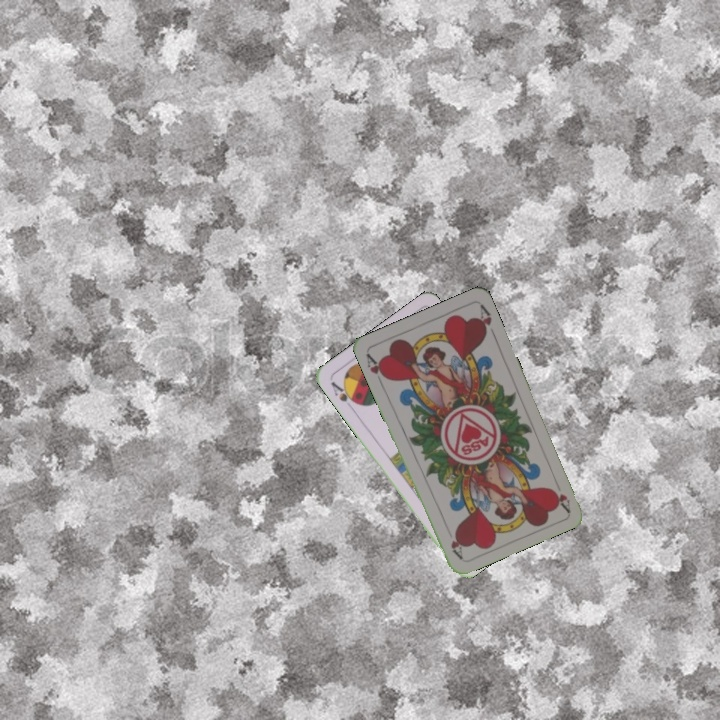HA: (548, 475, 573, 514), (362, 350, 391, 383)
SA: (327, 377, 360, 407)
